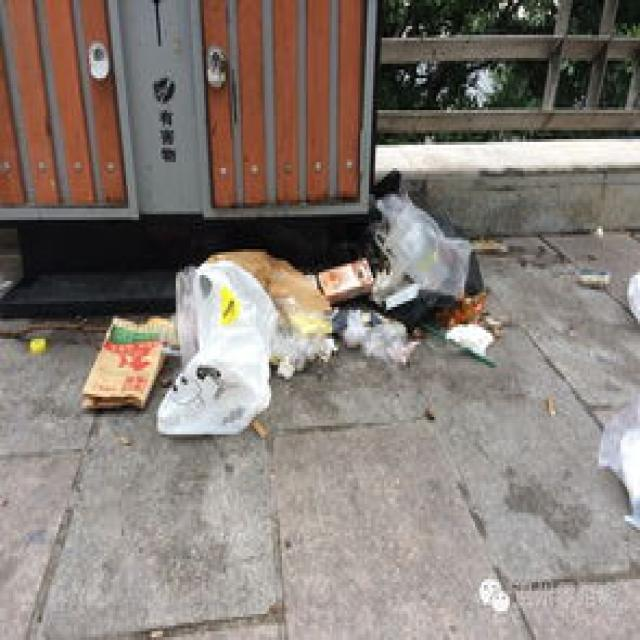garbage: (78, 188, 499, 434)
